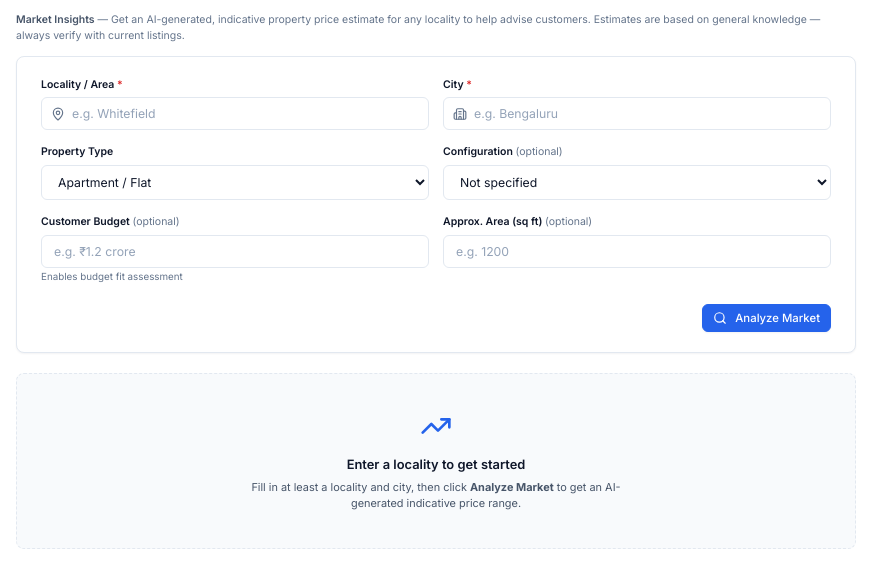
Test: MarketInsights — Loading State › disables the submit button while loading
The image size is (873, 566).
In the field with placeholder "e.g. Whitefield": (235, 114) [41, 97, 429, 130], type "Whitefield"
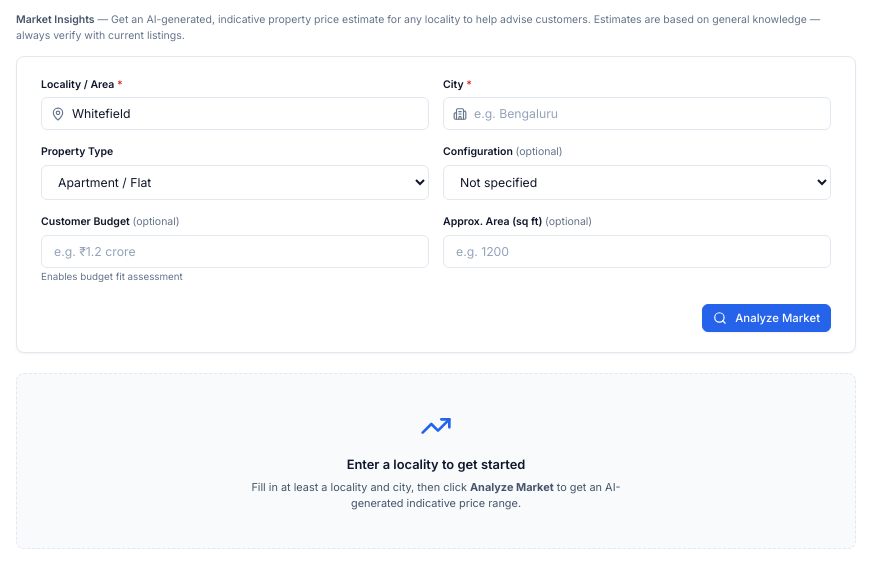
In the field with placeholder "e.g. Bengaluru": (637, 114) [443, 97, 831, 130], type "Bengaluru"
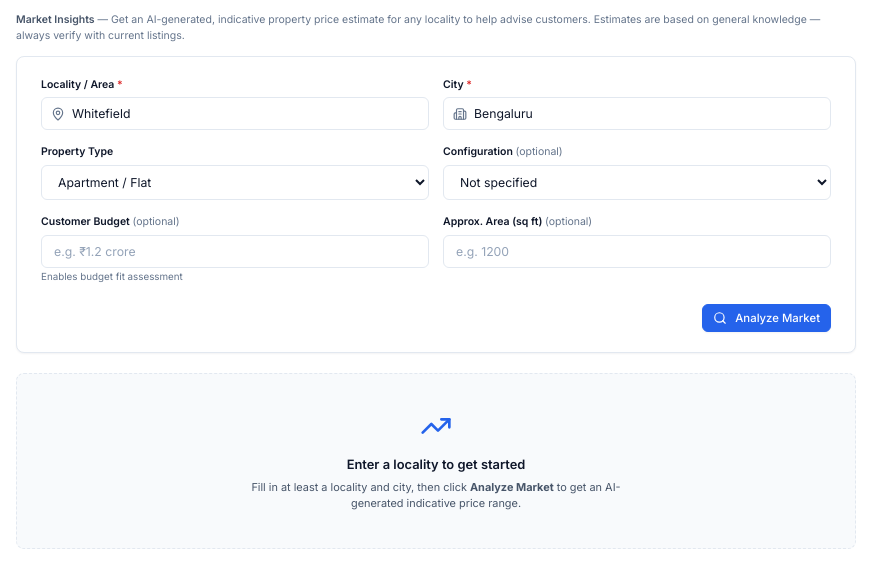
Click the button "Analyze Market": (767, 318) [702, 304, 831, 332]
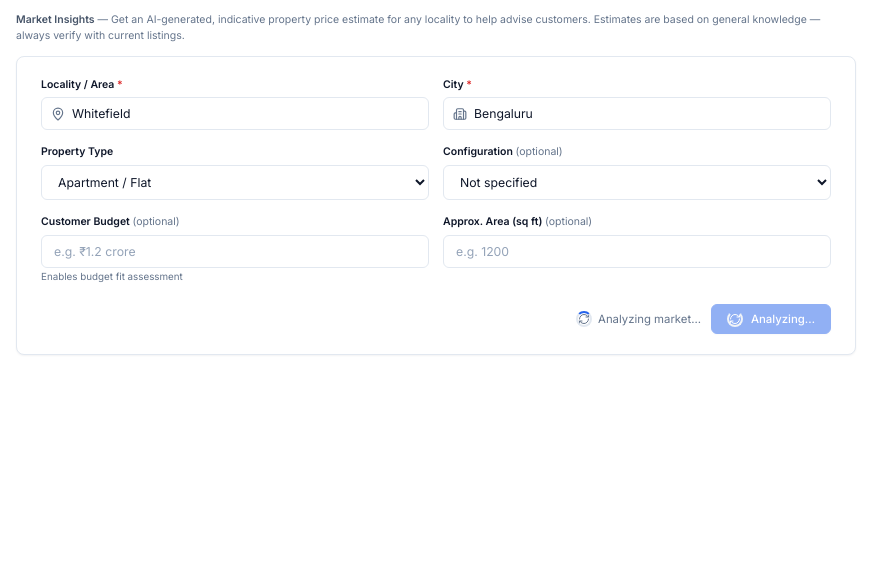
Now the button "Analyzing…" is disabled, box [711, 304, 831, 334]
